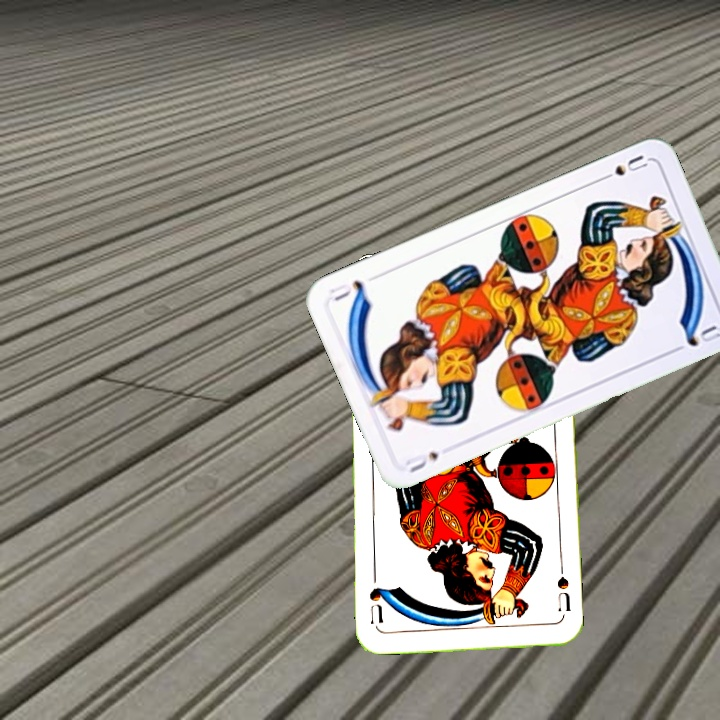SU: (594, 150, 651, 185), (401, 447, 442, 476), (553, 572, 573, 614)
